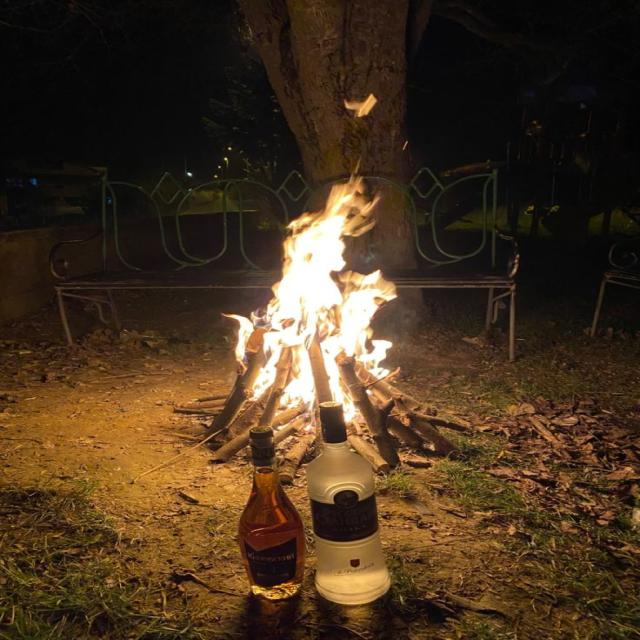fire: (221, 167, 398, 427)
